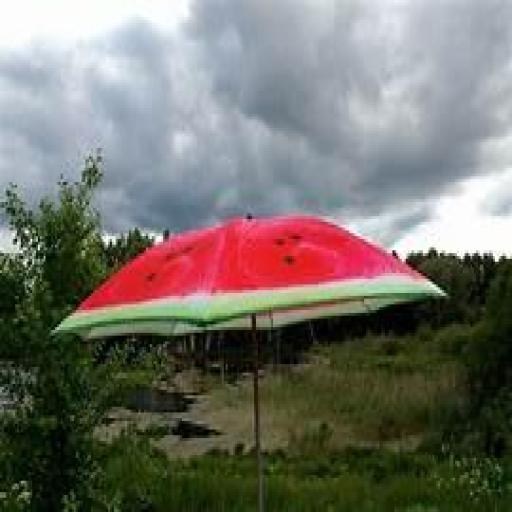guarda_chuva: (47, 211, 447, 509)
